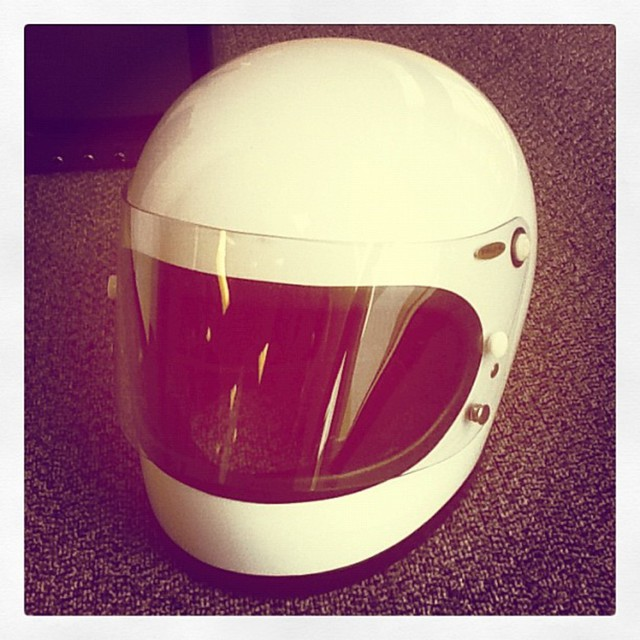helmet: (115, 61, 531, 549)
